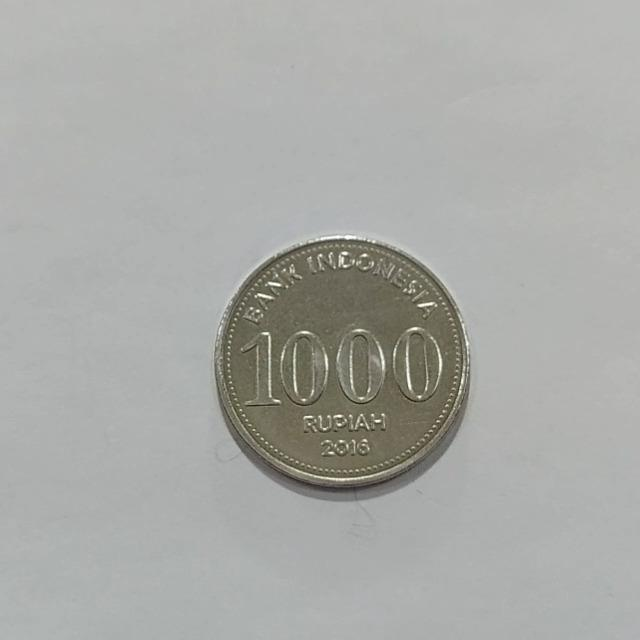Rp100: (212, 233, 471, 491)
